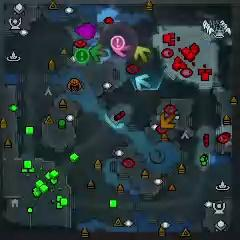Other: (75, 48, 89, 64), (111, 36, 125, 49)
p3: (74, 22, 97, 40)
x1: (112, 40, 129, 57)
x2: (134, 45, 149, 61)
x3: (135, 74, 152, 90)
x4: (90, 43, 107, 62)
x5: (160, 114, 176, 129)
